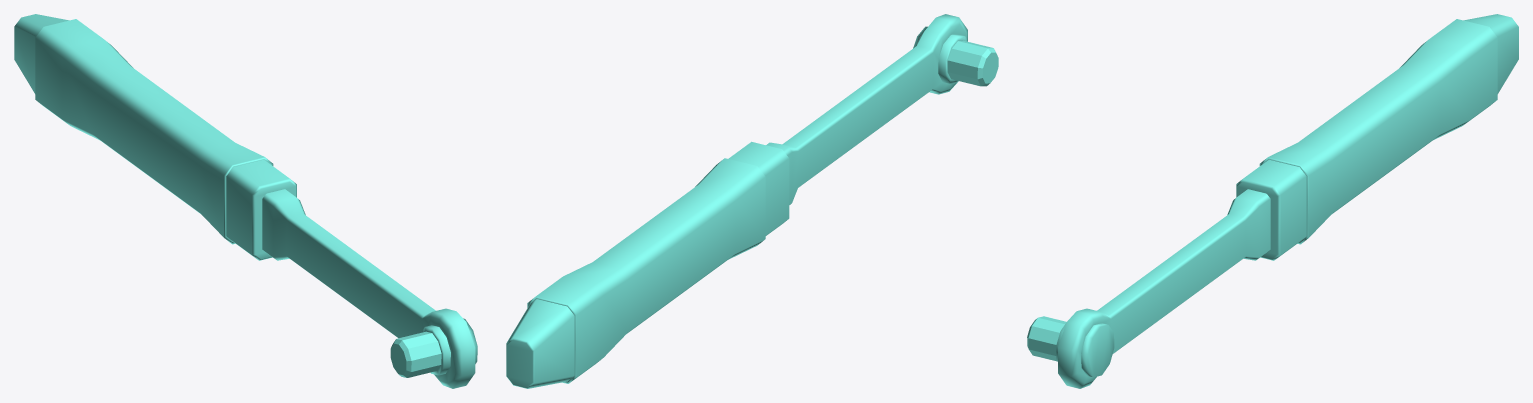
The model's file is Wrench02.fbx.
The picture shows the model from 3 angles, left to right: view 1: azimuth 30°, elevation 25°; view 2: azimuth 150°, elevation 25°; view 3: azimuth 330°, elevation 25°; orthographic projection.
Parts seen in each view (by area): view 1: TorqueWrench01_Modelling_v002:TorqueWrench_Body; view 2: TorqueWrench01_Modelling_v002:TorqueWrench_Body; view 3: TorqueWrench01_Modelling_v002:TorqueWrench_Body.
Boxes of the visible parts, x1,y1,x2,y2 form: TorqueWrench01_Modelling_v002:TorqueWrench_Body: [14, 14, 477, 388]; TorqueWrench01_Modelling_v002:TorqueWrench_Body: [506, 14, 998, 388]; TorqueWrench01_Modelling_v002:TorqueWrench_Body: [1027, 14, 1518, 388].
Bounding box in the file's own units: 3.26 × 3.34 × 33.49.
1 material, 1 textured.
